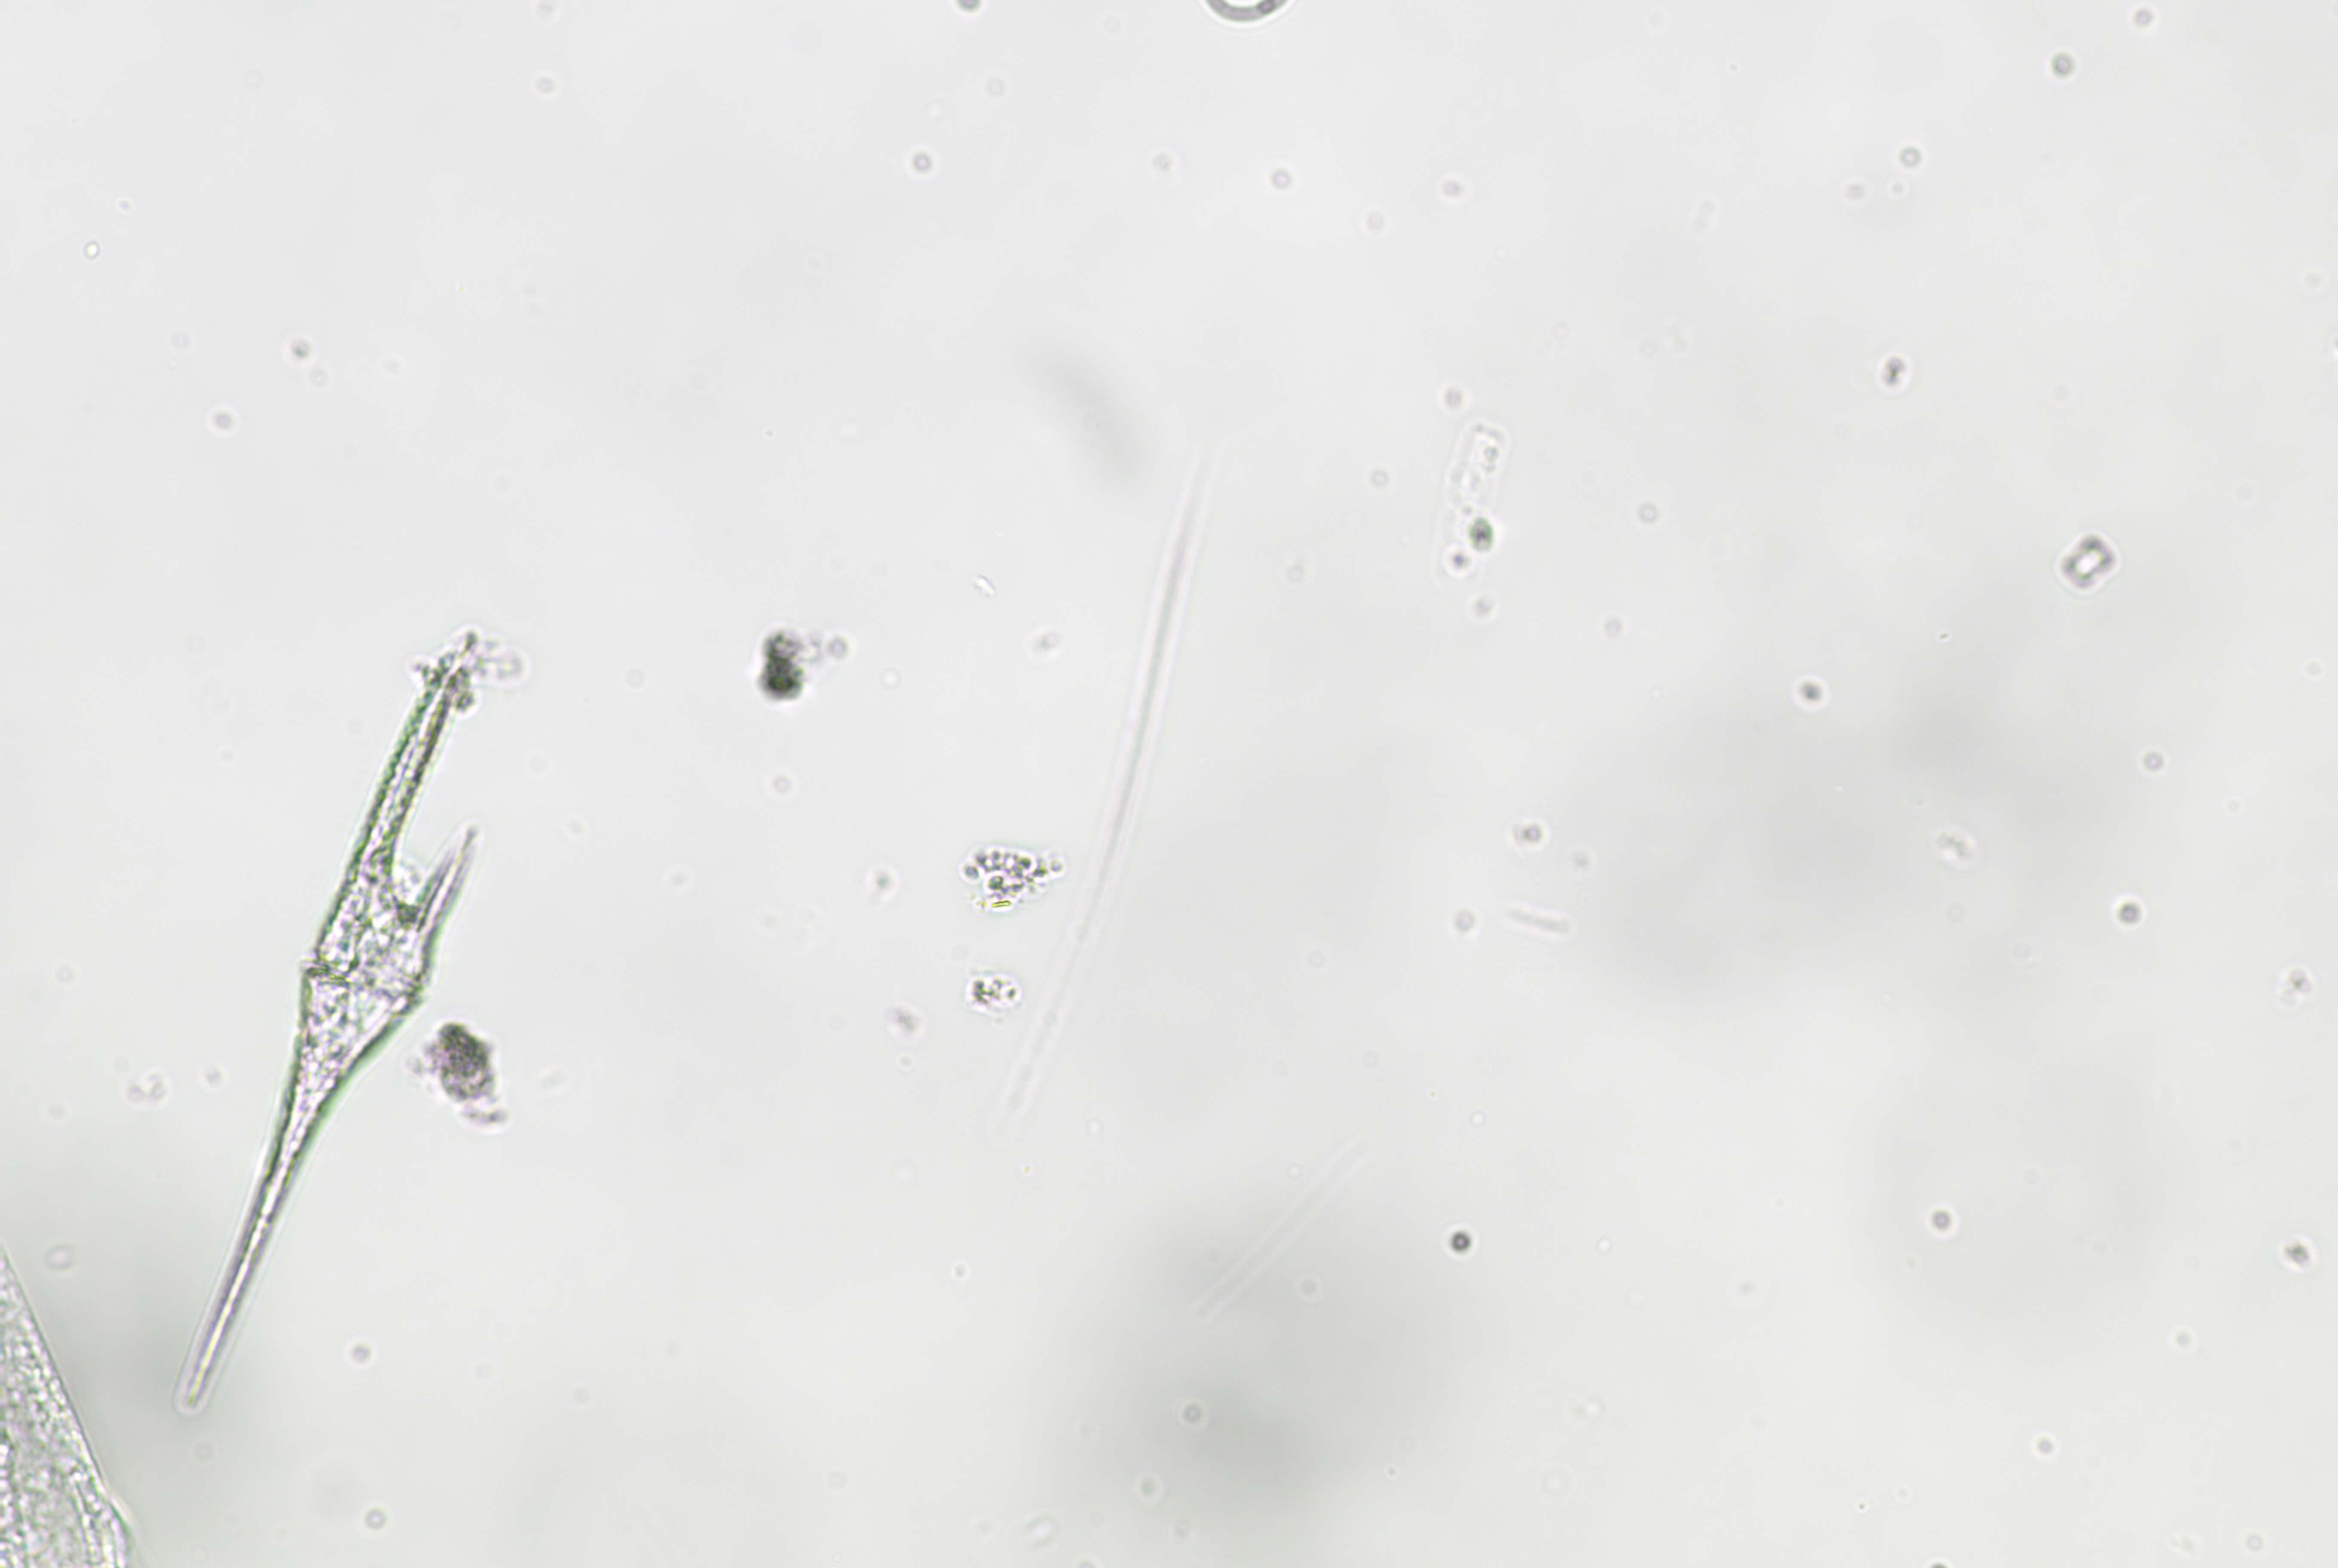ceratium furca: (198, 614, 473, 1410)
